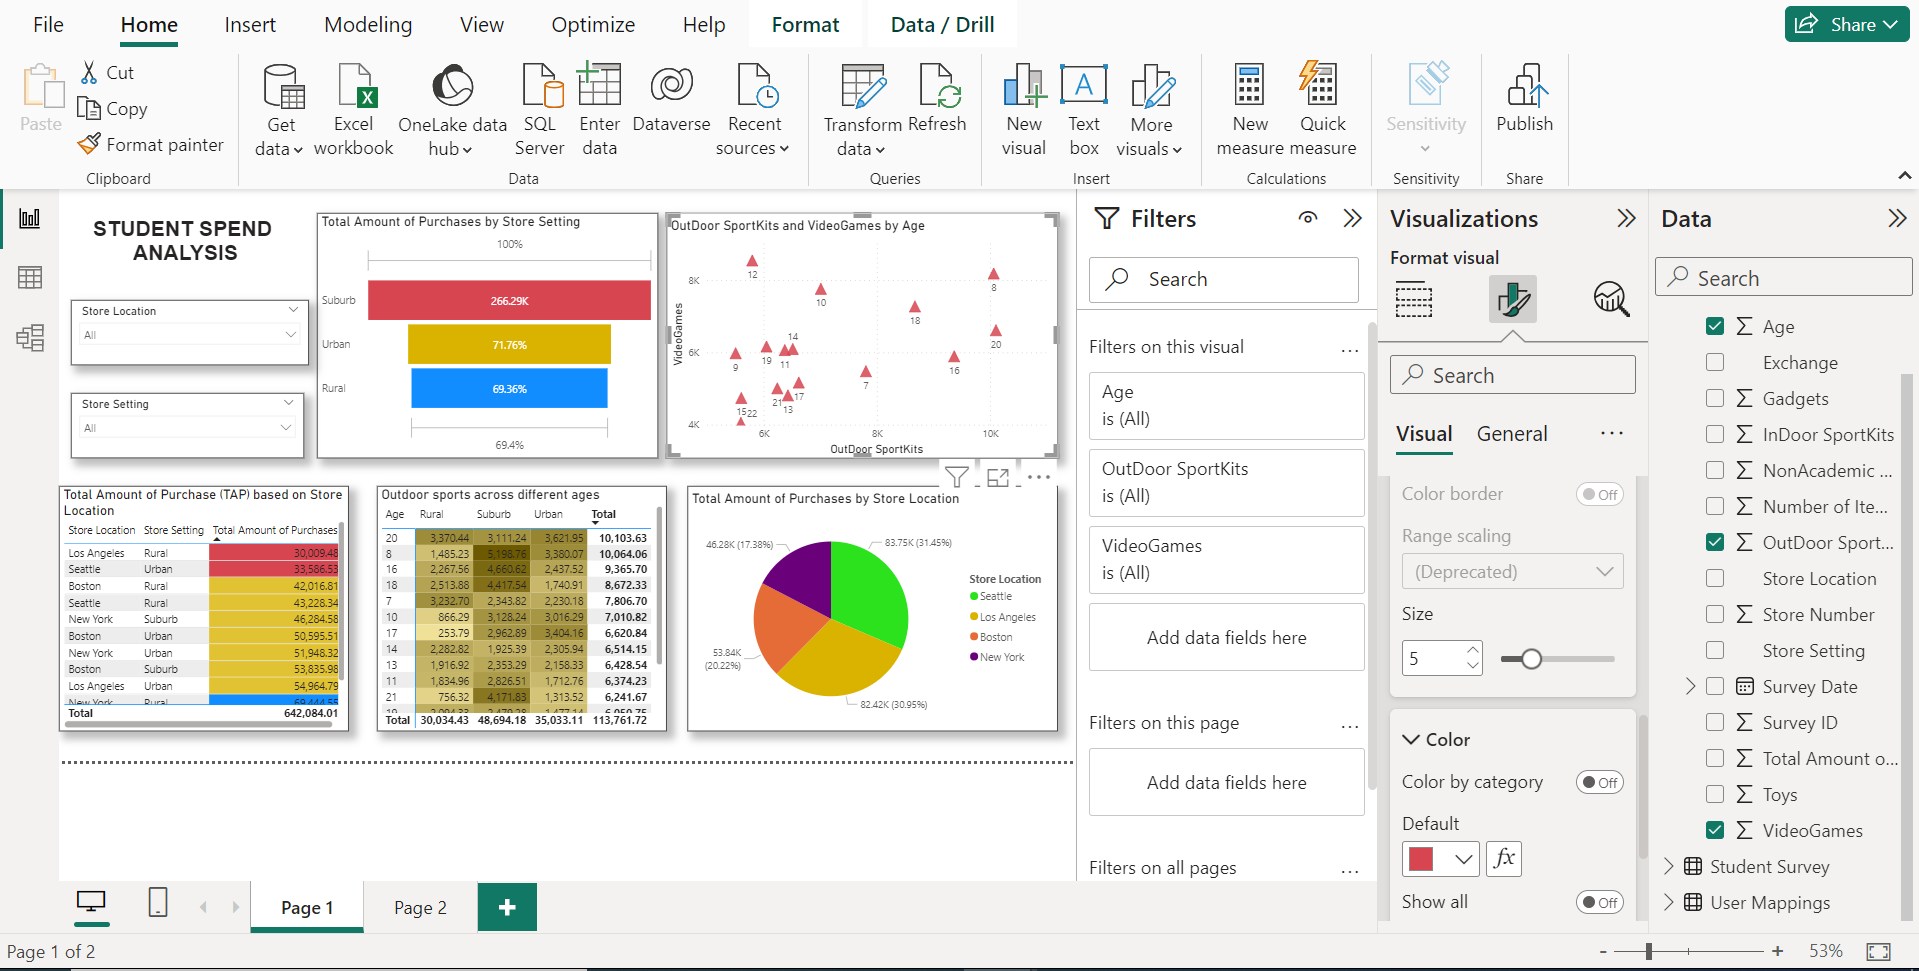

Layout of this report page (visuals, bound fields, positions):
{"tool":"powerbi","page":{"name":"Page 1","canvas":[1280,720],"ordinal":0},"visuals":[{"type":"tableEx","title":"Total Amount of Purchase (TAP) based on Store Location","fields":{"Values":["'Student Survey$'FilterDatabase.Store Location","'Student Survey$'FilterDatabase.Store Setting","Sum('Student Survey$'FilterDatabase.Total Amount of Purchases)"]},"box":[0,373.7,364.4,308.8],"z":0},{"type":"pivotTable","title":"Outdoor sports across different ages","fields":{"Rows":["'Student Survey$'FilterDatabase.Age"],"Columns":["'Student Survey$'FilterDatabase.Store Setting"],"Values":["Sum('Student Survey$'FilterDatabase.OutDoor SportKits)"]},"box":[399.9,373.7,364.4,308.8],"z":1000},{"type":"funnel","fields":{"Category":["'Student Survey$'FilterDatabase.Store Setting"],"Y":["Sum('Student Survey$'FilterDatabase.Total Amount of Purchases)"]},"box":[324.2,29.3,429.2,308.8],"z":2000},{"type":"pieChart","fields":{"Category":["'Student Survey$'FilterDatabase.Store Location"],"Y":["Sum('Student Survey$'FilterDatabase.Total Amount of Purchases)"]},"box":[790.5,373.7,466.3,308.8],"z":3000},{"type":"scatterChart","fields":{"Category":["'Student Survey$'FilterDatabase.Age"],"X":["Sum('Student Survey$'FilterDatabase.OutDoor SportKits)"],"Y":["Sum('Student Survey$'FilterDatabase.VideoGames)"]},"box":[764.3,29.3,492.5,308.8],"z":4000},{"type":"slicer","fields":{"Values":["'Student Survey$'FilterDatabase.Store Setting"]},"box":[15.4,256.3,293.4,81.8],"z":5000},{"type":"slicer","fields":{"Values":["'Student Survey$'FilterDatabase.Store Location"]},"box":[15.4,140.5,299.5,81.8],"z":6000},{"type":"textbox","box":[9.3,29.3,299.5,81.8],"z":7000}]}

Visuals, with their boxes on the page's 1280x720 design canvas (x1, y1, x2, y2). These are canvas units, not pixel positions in the 1919x971 screenshot, which may show the page scaled, cropped or inside an application window:
"Total Amount of Purchase (TAP) based on Store Location" tableEx: box=[0, 374, 364, 682]
"Outdoor sports across different ages" pivotTable: box=[400, 374, 764, 682]
funnel - 'Student Survey$'FilterDatabase.Store Setting x Sum('Student Survey$'FilterDatabase.Total Amount of Purchases): box=[324, 29, 753, 338]
pieChart - 'Student Survey$'FilterDatabase.Store Location x Sum('Student Survey$'FilterDatabase.Total Amount of Purchases): box=[790, 374, 1257, 682]
scatterChart - 'Student Survey$'FilterDatabase.Age x Sum('Student Survey$'FilterDatabase.OutDoor SportKits): box=[764, 29, 1257, 338]
slicer - 'Student Survey$'FilterDatabase.Store Setting: box=[15, 256, 309, 338]
slicer - 'Student Survey$'FilterDatabase.Store Location: box=[15, 140, 315, 222]
textbox: box=[9, 29, 309, 111]
